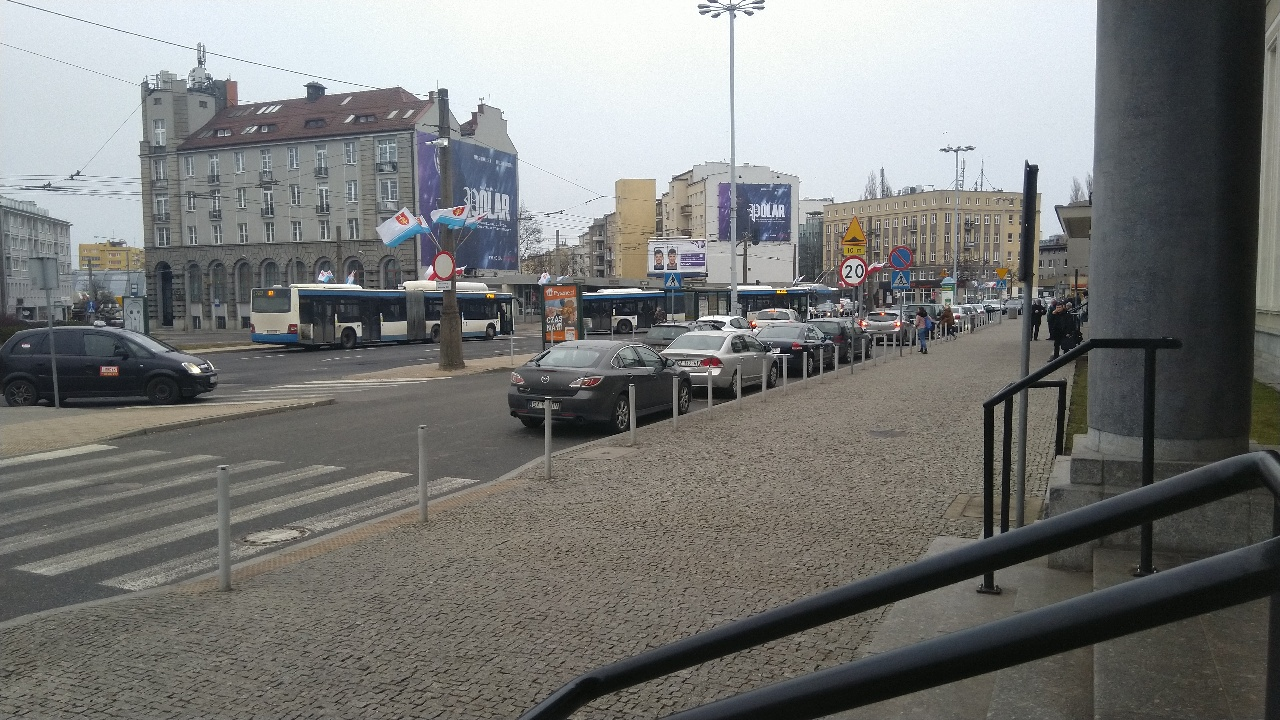A11a: (842, 216, 867, 243)
A7: (995, 267, 1008, 279)
B33_20: (840, 255, 868, 287)
B35: (889, 246, 913, 271)
D6: (891, 269, 911, 289), (664, 272, 682, 289)
